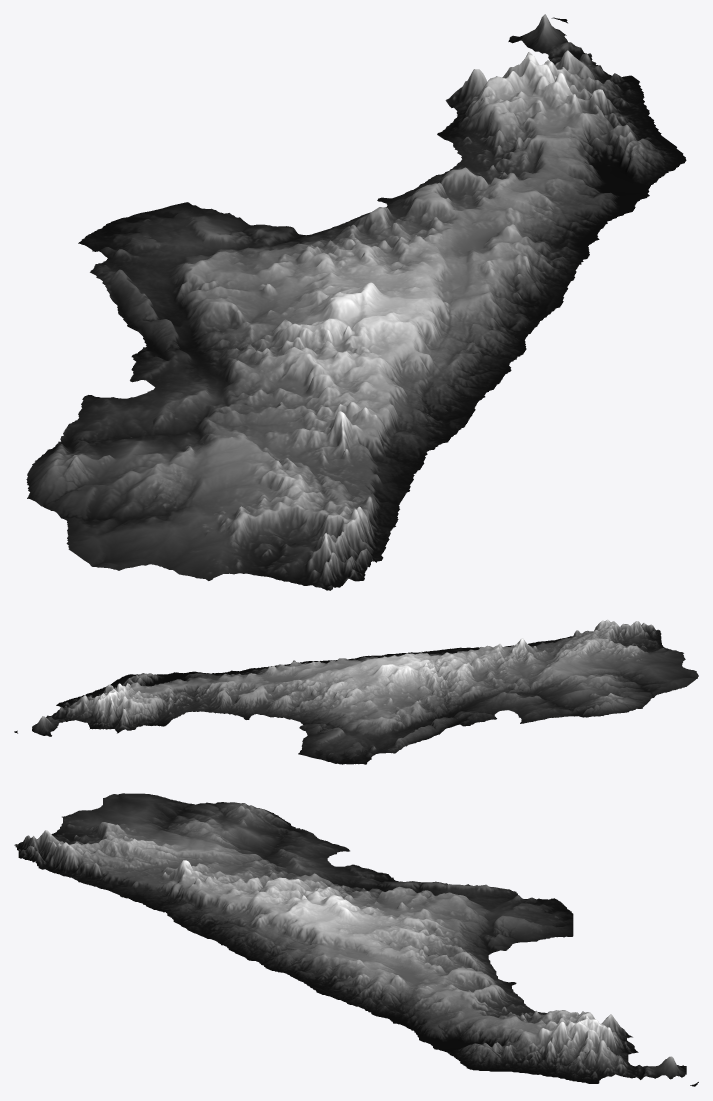
Rendered from Island.glb.
3 views of the same model, one above another, from view 1: azimuth 30°, elevation 25°; view 2: azimuth 150°, elevation 25°; view 3: azimuth 270°, elevation 25° (orthographic). The views are drawn at different scales.
Visible parts, largest first — view 1: Island; view 2: Island; view 3: Island.
Part boxes in pixels (box(x1,y1,x2,y2)): Island: box(26, 14, 686, 590); Island: box(14, 619, 698, 764); Island: box(14, 793, 698, 1086).
Size of what is drawn, in the model's own units: 1563 by 79.47 by 1562.
1 material, 1 textured.
